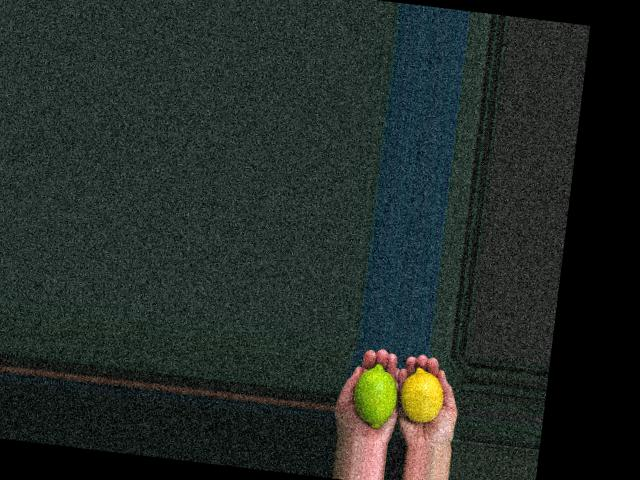lemon: (397, 366, 446, 427)
